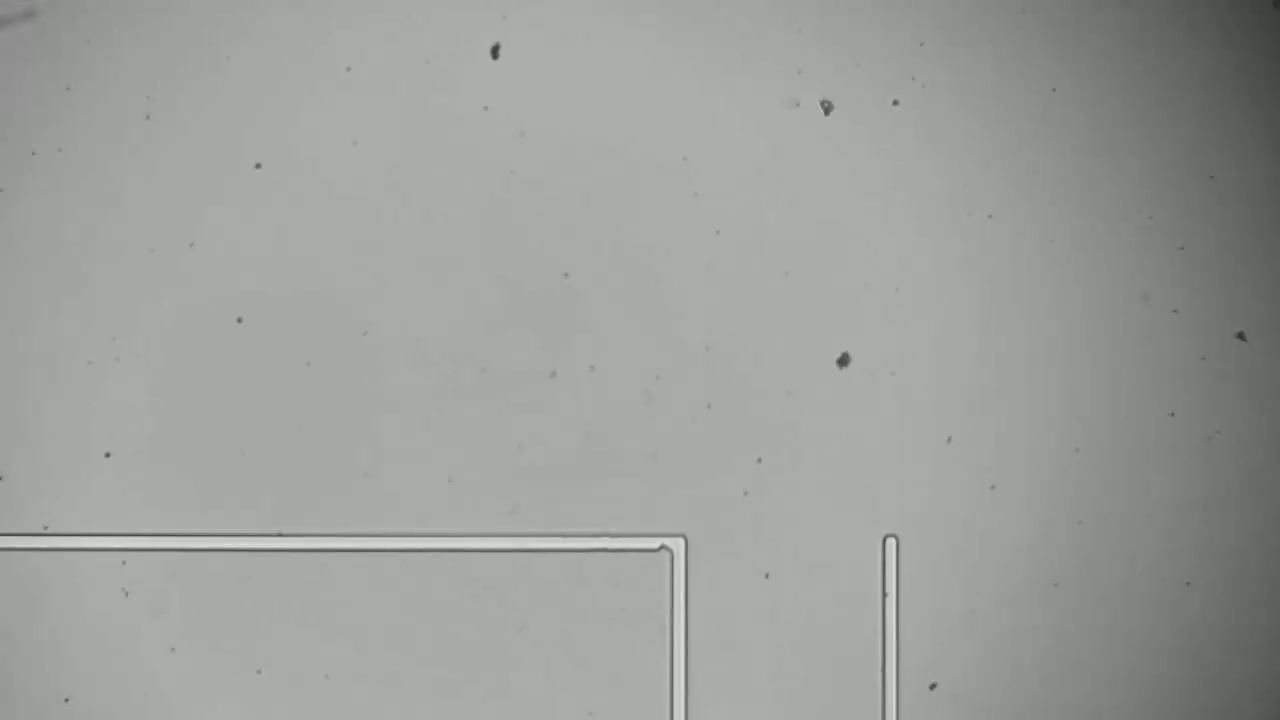edge_bite: (650, 526, 678, 556)
